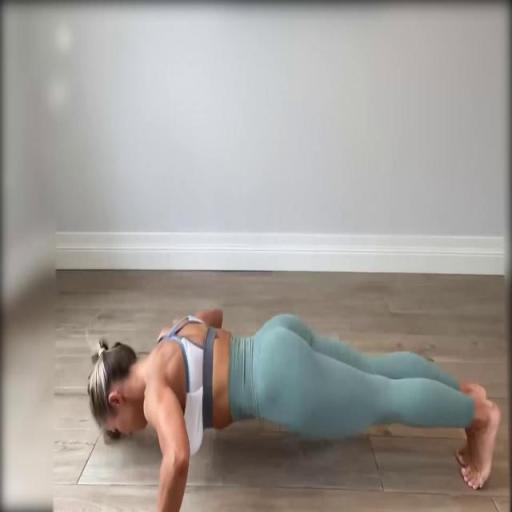Normal_BrenchPress: (86, 307, 503, 509)
